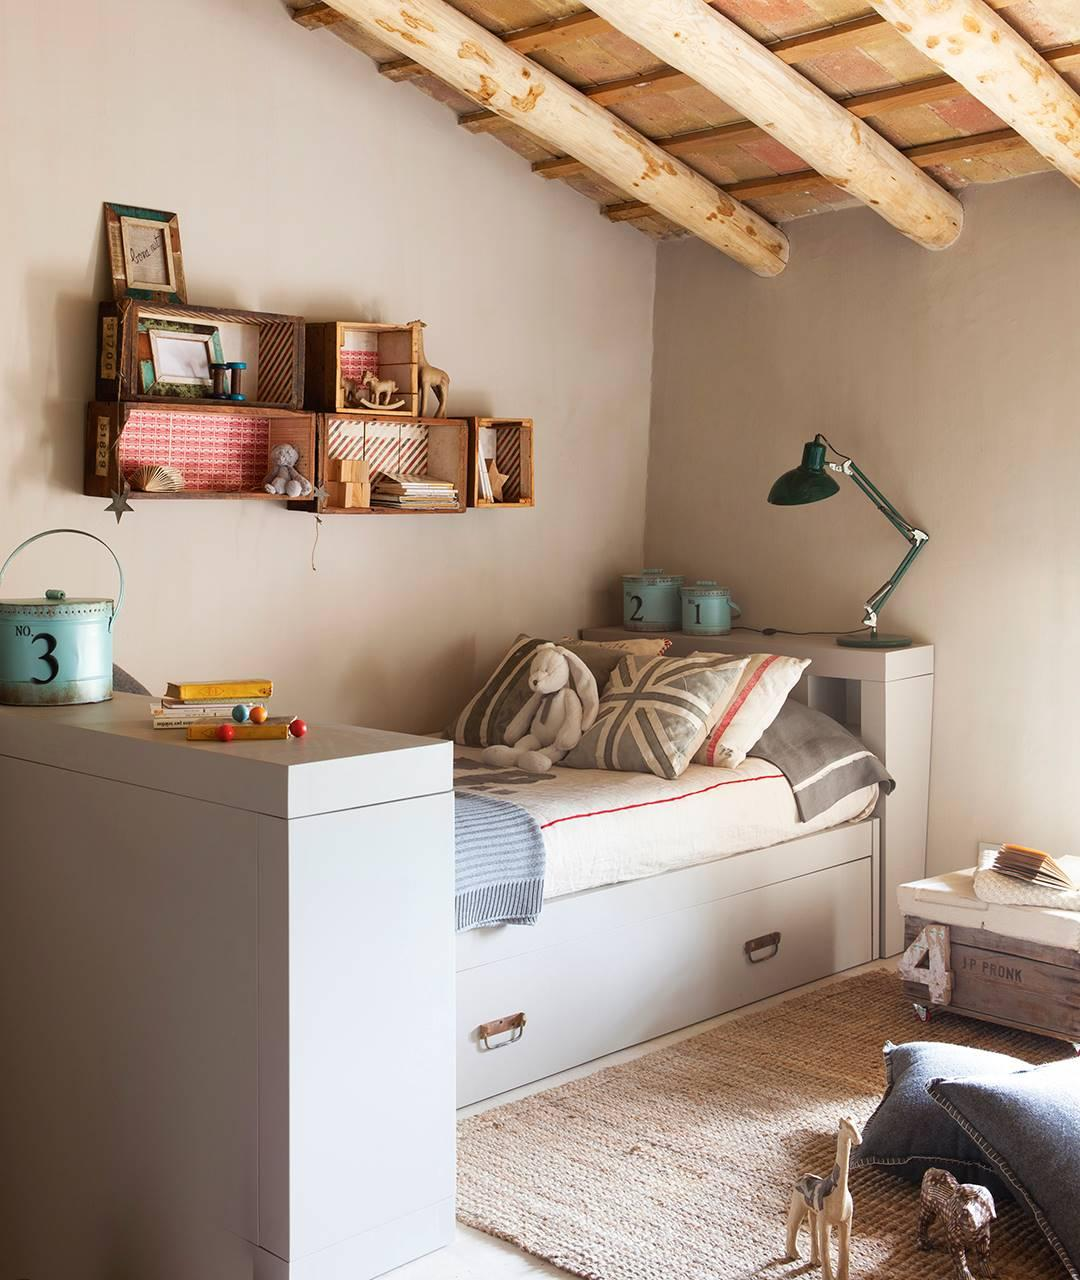bed: (396, 573, 897, 846)
